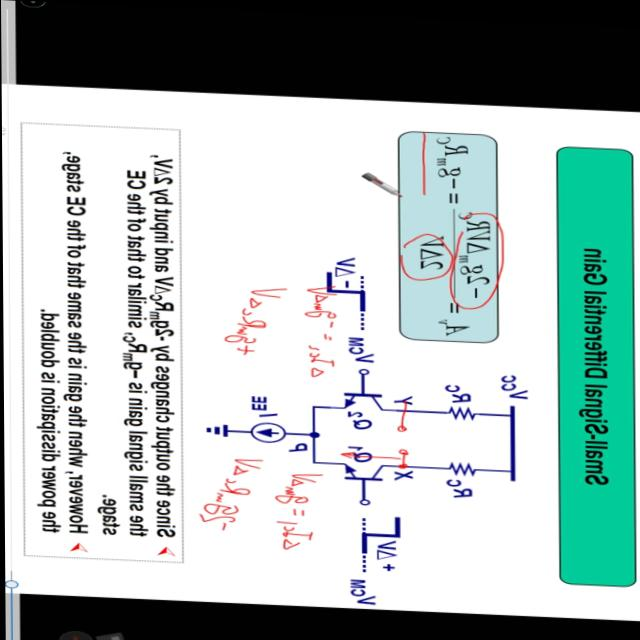panseo: (177, 436, 339, 566), (199, 261, 354, 386)
